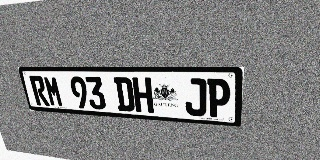3: (85, 77, 106, 110)
9: (69, 76, 90, 109)
D: (113, 77, 135, 112)
H: (132, 77, 154, 113)
J: (184, 78, 206, 117)
M: (43, 76, 64, 107)
P: (207, 78, 231, 118)
R: (29, 76, 50, 106)
